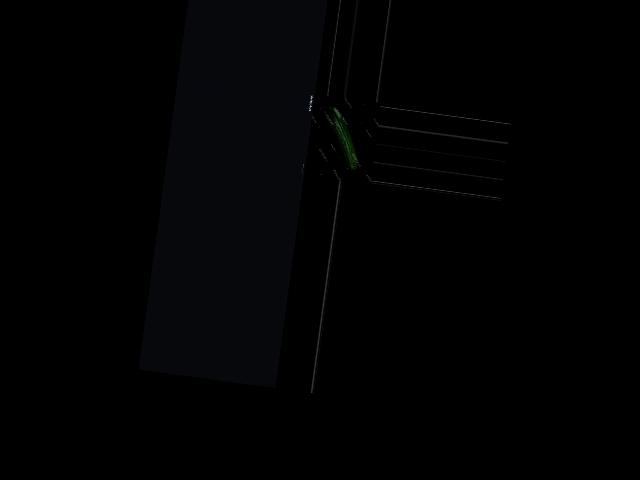cucumber: (319, 106, 364, 171)
